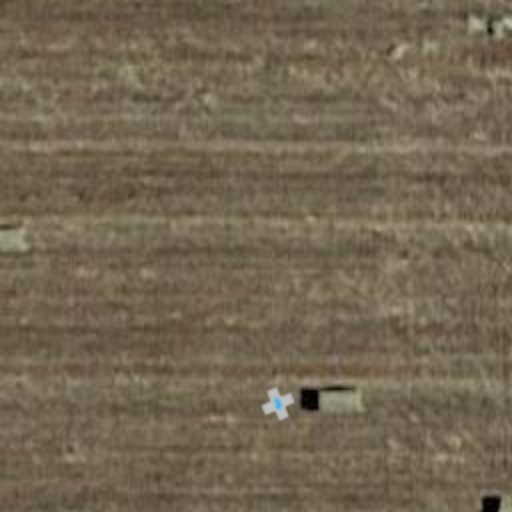cross: (256, 382, 300, 426)
